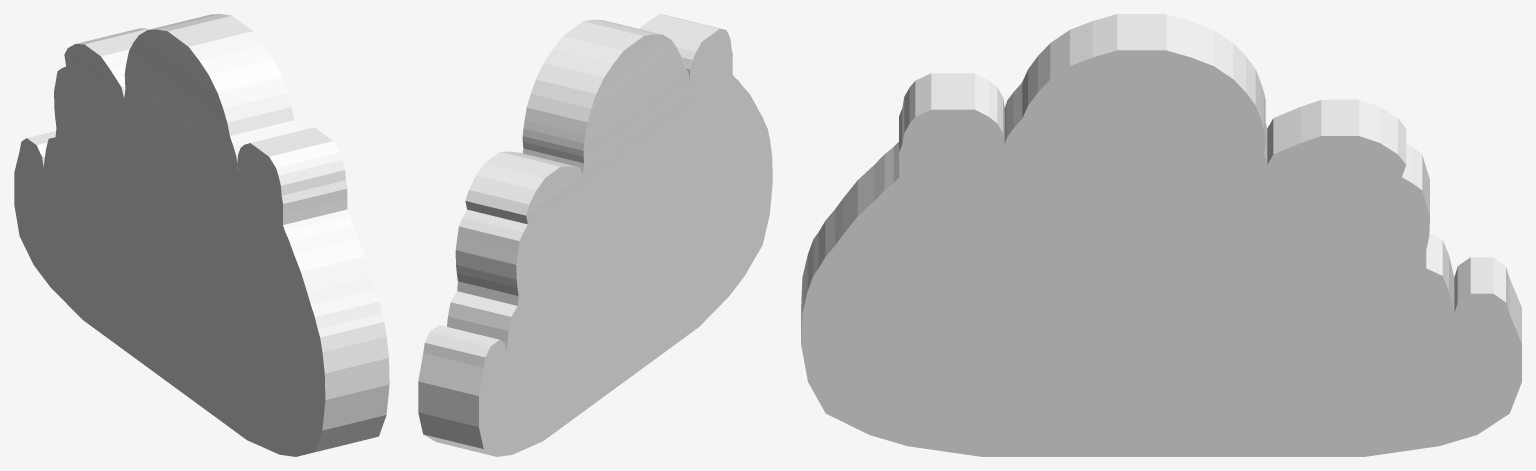
The model's file is Cloud 4T.fbx.
3 renders of one model, left to right at view 1: azimuth 30°, elevation 25°; view 2: azimuth 150°, elevation 25°; view 3: azimuth 270°, elevation 25°, orthographic. The views are drawn at different scales.
Visible parts, largest first — view 1: Cloud 4; view 2: Cloud 4; view 3: Cloud 4.
Part boxes in pixels (box(x1,y1,x2,y2)): Cloud 4: box(14, 14, 389, 456); Cloud 4: box(418, 14, 772, 456); Cloud 4: box(801, 14, 1521, 456).
Bounding box in the file's own units: 40.7 × 211 × 340.
